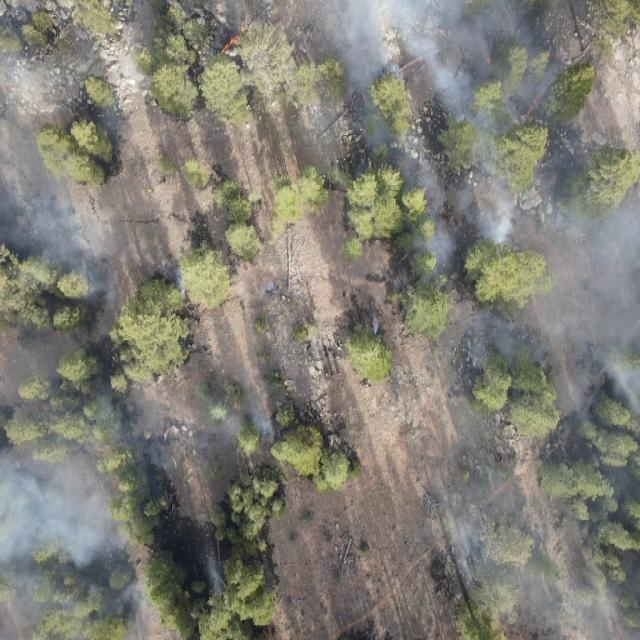fire: (218, 21, 248, 54), (521, 92, 544, 120), (351, 89, 369, 107), (481, 51, 497, 71)
smoke: (313, 0, 640, 348), (430, 350, 640, 640), (0, 368, 132, 640), (0, 1, 117, 283), (132, 367, 282, 461), (191, 540, 236, 600), (150, 250, 190, 302), (242, 280, 282, 302)
